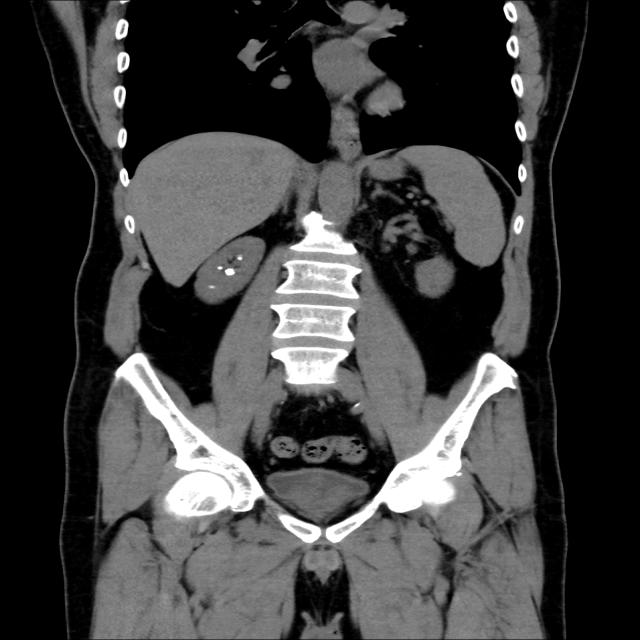kidneystone: (234, 250, 245, 261), (224, 268, 235, 276), (209, 285, 215, 289)
